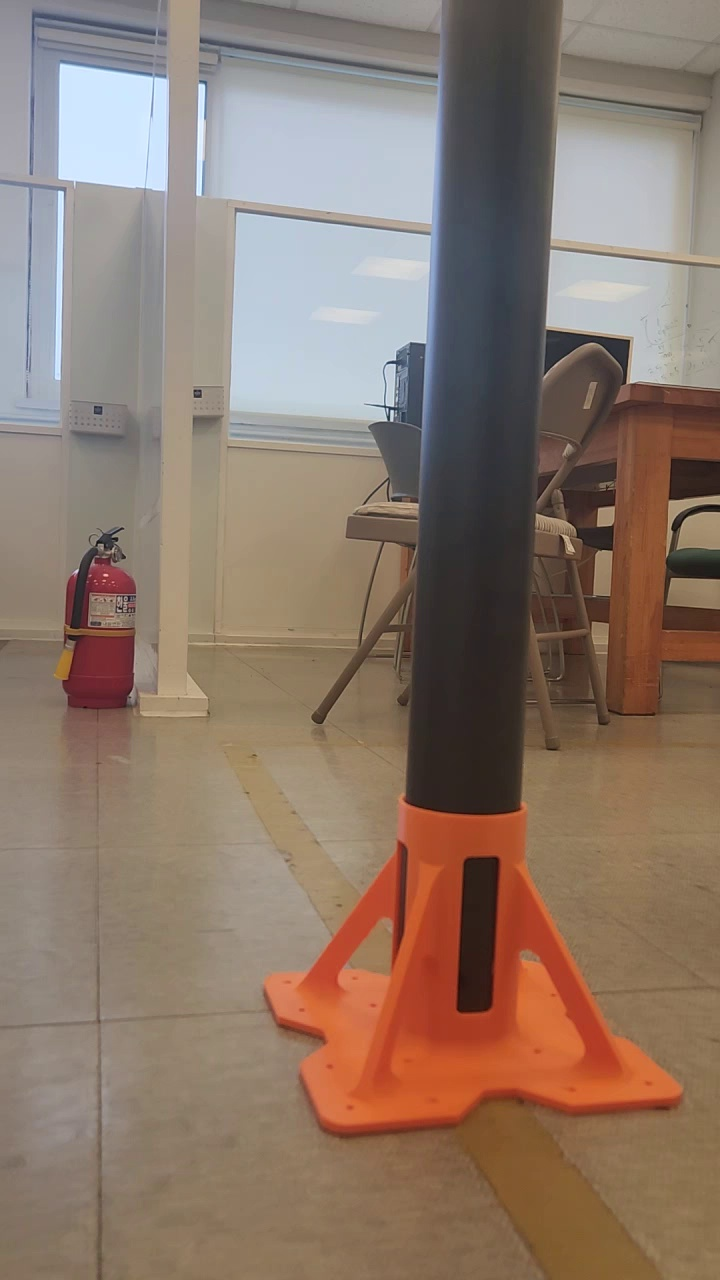pole: (406, 0, 562, 805)
